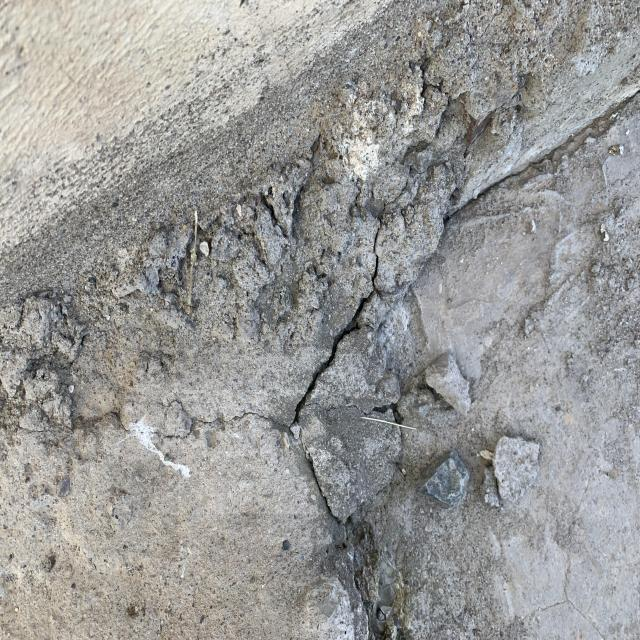diagonal crack: (439, 76, 640, 229), (266, 205, 406, 418), (160, 387, 310, 458), (287, 433, 377, 535)
